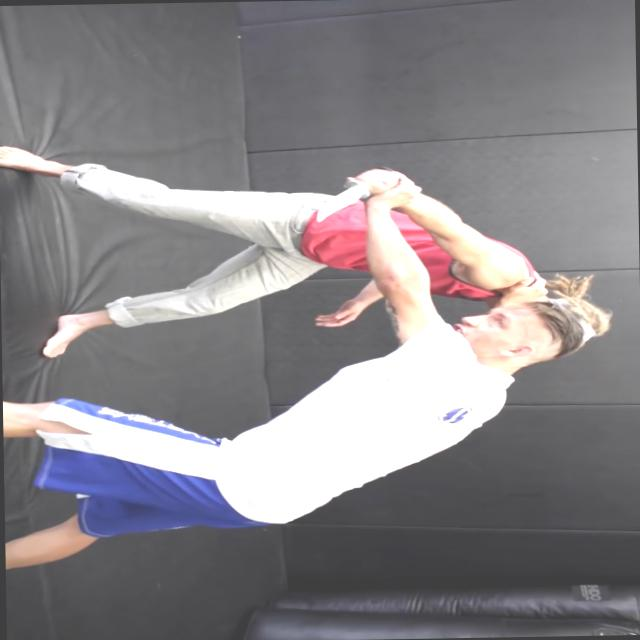knife: (303, 162, 396, 228)
